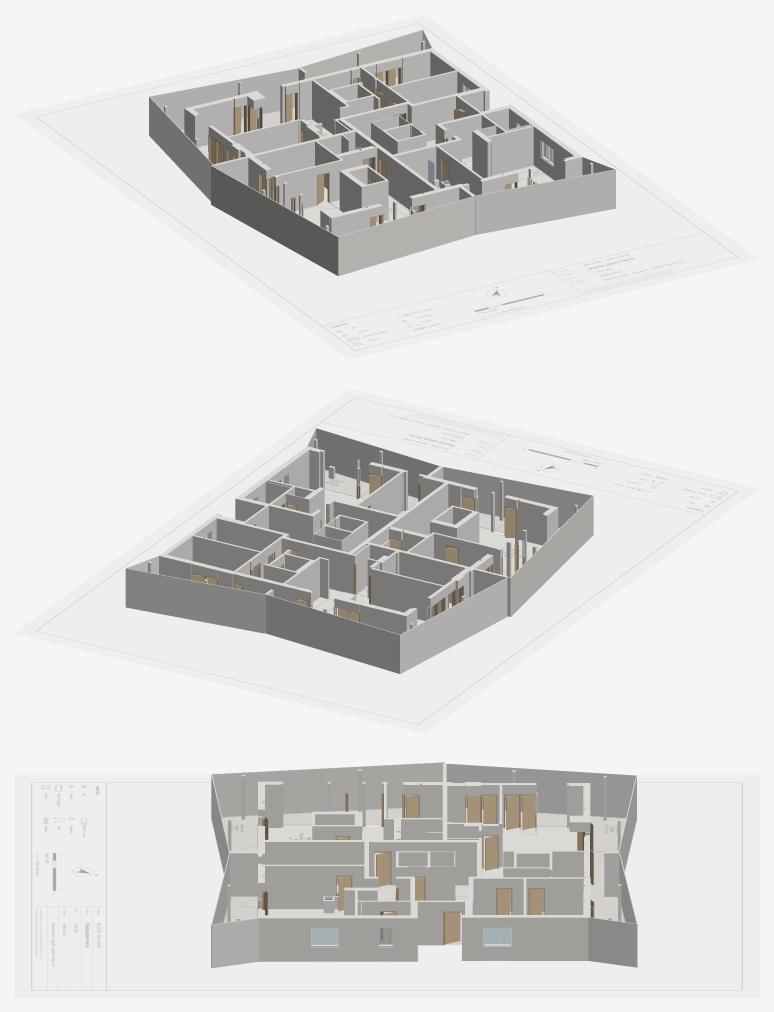
The picture shows the model from 3 angles, top to bottom: view 1: azimuth 30°, elevation 25°; view 2: azimuth 150°, elevation 25°; view 3: azimuth 270°, elevation 25°; orthographic projection. The views are drawn at different scales.
Parts seen in each view (by area): view 1: plan_floor, wall-15, wall-62, wall-66, wall-65, wall-27, wall-67, wall-41, wall-69, wall-5, wall-68, wall-7 (+12 smaller); view 2: plan_floor, wall-15, wall-68, wall-67, wall-69, wall-65, wall-62, wall-66, wall-27, wall-32, wall-23, wall-5 (+15 smaller); view 3: plan_floor, wall-65, wall-15, wall-69, wall-5, wall-49, wall-32, wall-6, room-1, wall-45, wall-27, wall-70 (+34 smaller).
Part boxes in pixels (x1=…): plan_floor: x1=14, y1=14, x2=759, y2=359; wall-15: x1=213, y1=106, x2=392, y2=202; wall-62: x1=475, y1=169, x2=615, y2=234; wall-66: x1=338, y1=196, x2=472, y2=275; wall-65: x1=211, y1=165, x2=338, y2=275; wall-27: x1=297, y1=68, x2=380, y2=134; wall-67: x1=150, y1=68, x2=298, y2=129; wall-41: x1=472, y1=124, x2=533, y2=177; wall-69: x1=149, y1=96, x2=213, y2=201; wall-5: x1=386, y1=153, x2=475, y2=235; wall-68: x1=300, y1=29, x2=422, y2=83; wall-7: x1=339, y1=164, x2=388, y2=222; plan_floor: x1=14, y1=388, x2=759, y2=733; wall-15: x1=298, y1=524, x2=508, y2=603; wall-68: x1=125, y1=568, x2=264, y2=633; wall-67: x1=267, y1=594, x2=399, y2=673; wall-69: x1=399, y1=578, x2=507, y2=673; wall-65: x1=510, y1=495, x2=593, y2=616; wall-62: x1=316, y1=428, x2=439, y2=498; wall-66: x1=443, y1=466, x2=592, y2=527; wall-27: x1=242, y1=549, x2=329, y2=602; wall-32: x1=235, y1=490, x2=321, y2=543; wall-23: x1=371, y1=568, x2=443, y2=620; wall-5: x1=395, y1=466, x2=464, y2=535; plan_floor: x1=14, y1=775, x2=759, y2=997; wall-65: x1=212, y1=762, x2=444, y2=816; wall-15: x1=384, y1=763, x2=482, y2=885; wall-69: x1=446, y1=763, x2=636, y2=817; wall-5: x1=229, y1=832, x2=373, y2=896; wall-49: x1=511, y1=899, x2=590, y2=960; wall-32: x1=393, y1=876, x2=443, y2=961; wall-6: x1=258, y1=863, x2=336, y2=908; room-1: x1=465, y1=808, x2=625, y2=921; wall-45: x1=258, y1=908, x2=311, y2=961; wall-27: x1=503, y1=844, x2=589, y2=911; wall-70: x1=588, y1=917, x2=636, y2=967.
Bounding box in the file's own units: 29.7 × 2.7 × 42.01.
Materials: 9 (1 with a texture image).
